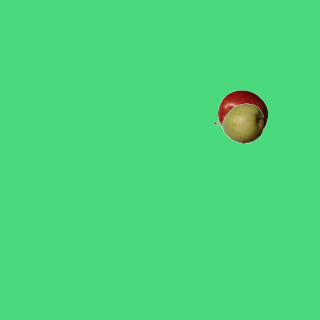Apple Braeburn: (217, 89, 267, 139)
Pear: (213, 98, 263, 148)
